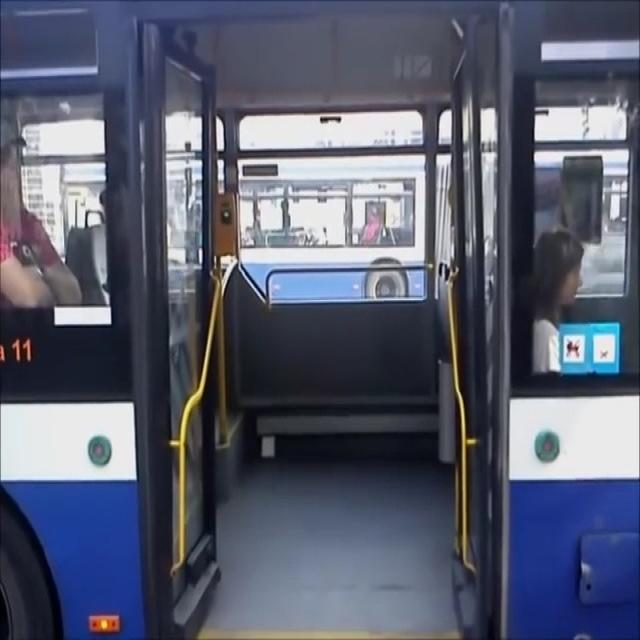bus-door: (122, 3, 507, 640)
